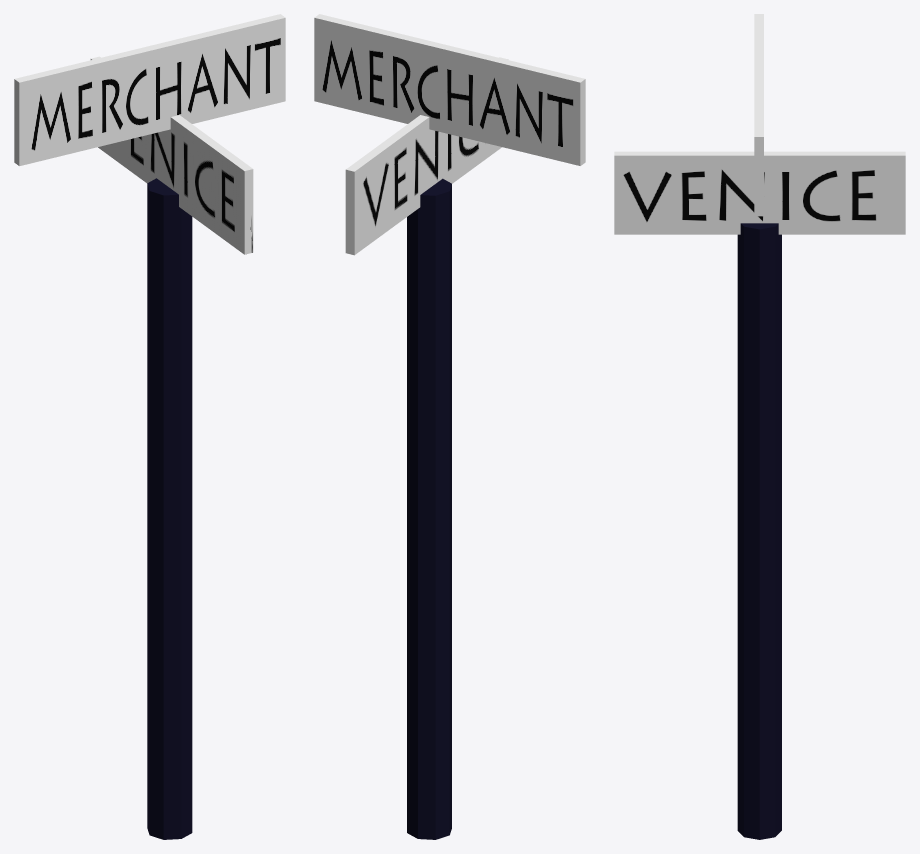
The model's file is SignPost.fbx.
The picture shows the model from 3 angles, left to right: view 1: azimuth 30°, elevation 25°; view 2: azimuth 150°, elevation 25°; view 3: azimuth 270°, elevation 25°; orthographic projection. The views are drawn at different scales.
Visible parts, largest first — view 1: Cylinder; view 2: Cylinder; view 3: Cylinder.
Boxes of the visible parts, x1,y1,x2,y2 form: Cylinder: (14, 14, 285, 839); Cylinder: (314, 14, 585, 839); Cylinder: (614, 14, 905, 839).
Size of the model in its own units: 86.47 by 244 by 86.47.
Materials: 3 (2 with a texture image).
